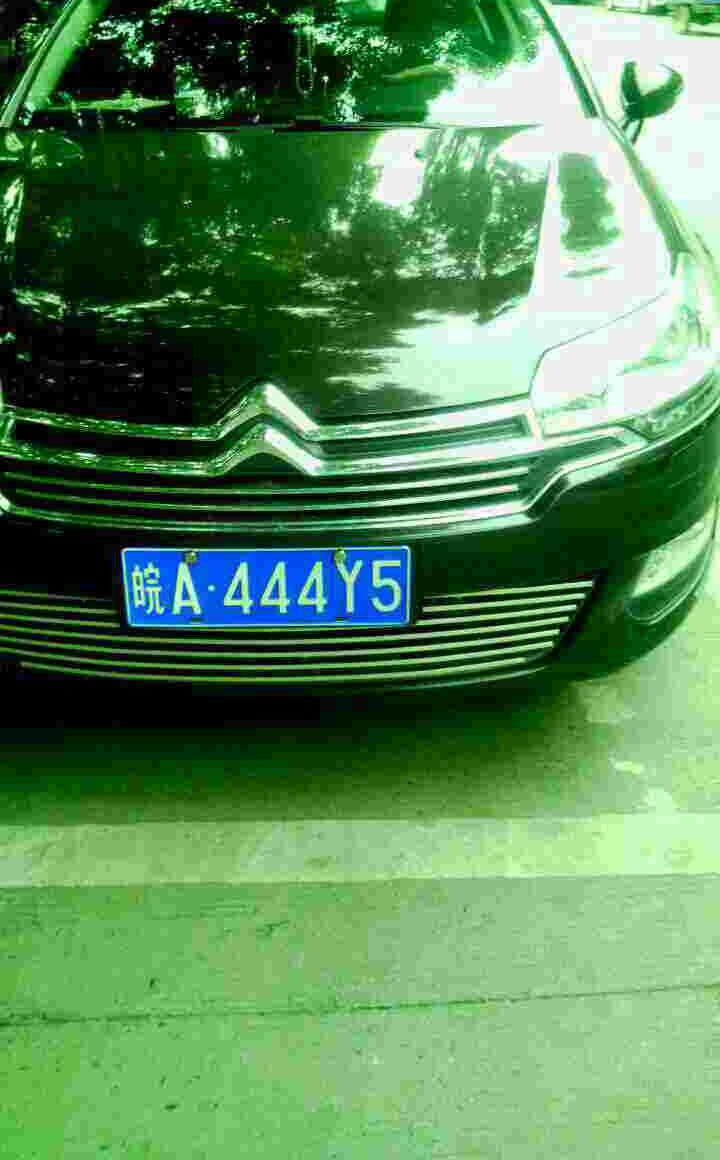license_plate: (118, 545, 424, 623)
